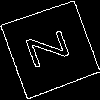Z: (25, 24, 80, 70)
